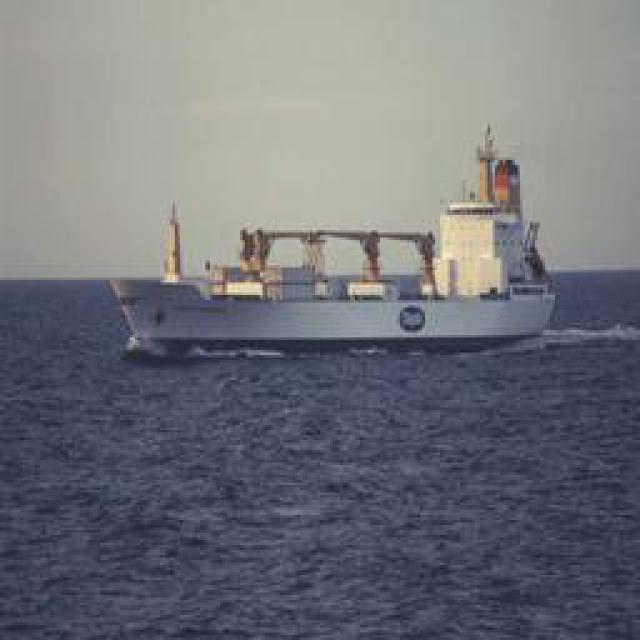Ship: (113, 190, 551, 355)
